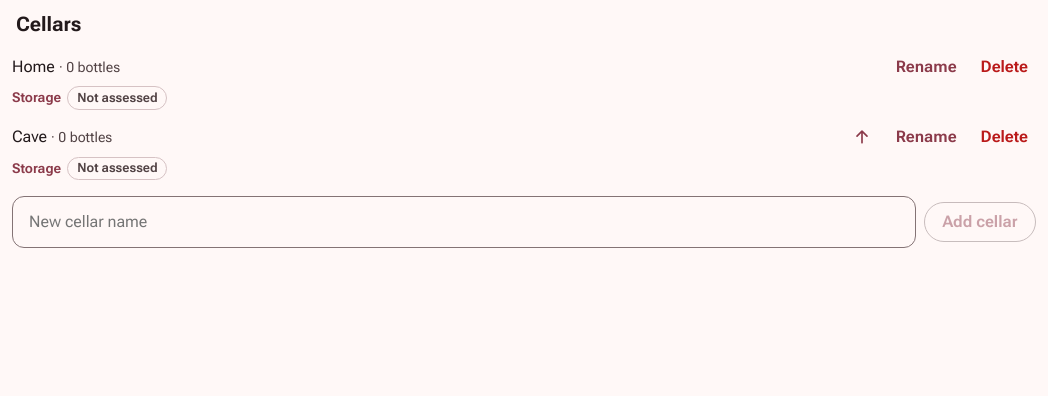
asks where bottles go when they arrive while an empty cellar waits for deletion
Click the button "Delete" in the row of "Cave". click: (1004, 137)
box: x1=972 y1=121 x2=1036 y2=153
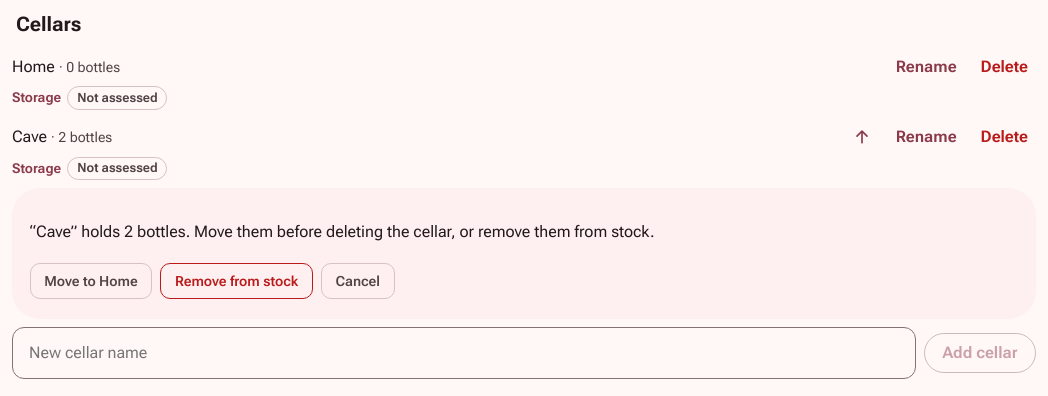
Expected: the text "“Cave” holds 2 bottles. Move them before deleting the cellar, or remove them from stock." is shown, x1=30 y1=222 x2=655 y2=241
